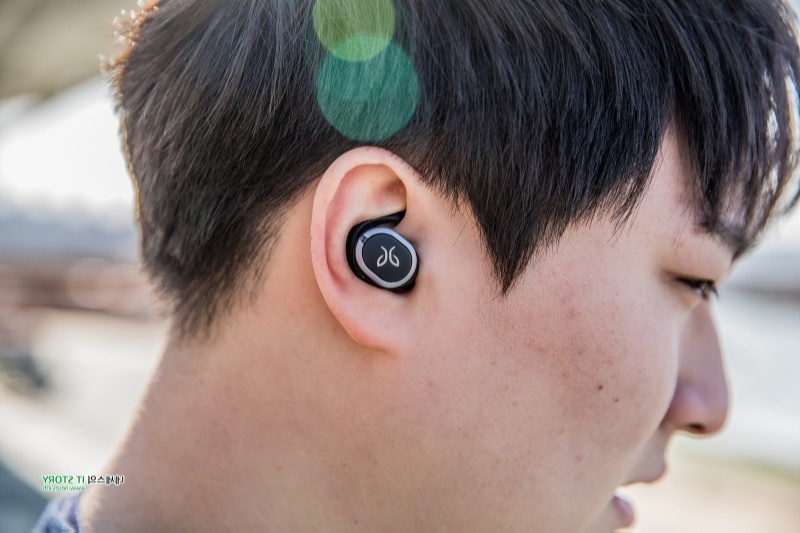earphone: (309, 148, 444, 355)
